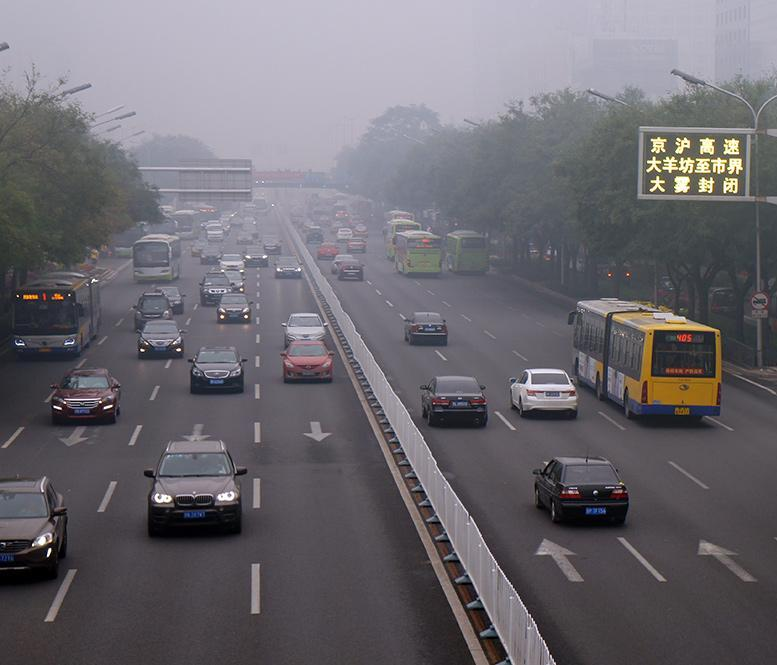bus: (566, 295, 722, 424), (4, 269, 104, 357), (132, 232, 182, 284), (391, 229, 443, 276), (443, 229, 491, 276), (380, 218, 421, 262), (382, 209, 416, 245), (171, 209, 204, 241)
car: (143, 438, 249, 539), (1, 473, 70, 577), (532, 456, 629, 528), (48, 367, 122, 426), (420, 374, 489, 429), (508, 367, 579, 419), (185, 345, 249, 393), (278, 339, 336, 384), (135, 320, 188, 361), (280, 311, 330, 351), (131, 291, 175, 329), (404, 312, 449, 348), (198, 270, 236, 307), (214, 292, 256, 324), (155, 285, 189, 316), (216, 267, 247, 295), (216, 252, 249, 276), (272, 255, 304, 278), (335, 259, 365, 281), (331, 253, 357, 277), (256, 232, 284, 254), (243, 247, 269, 269), (199, 243, 224, 264), (315, 241, 341, 261), (188, 238, 211, 260), (204, 223, 226, 243), (305, 226, 324, 246), (346, 236, 368, 253), (235, 230, 255, 245), (336, 228, 353, 242)
